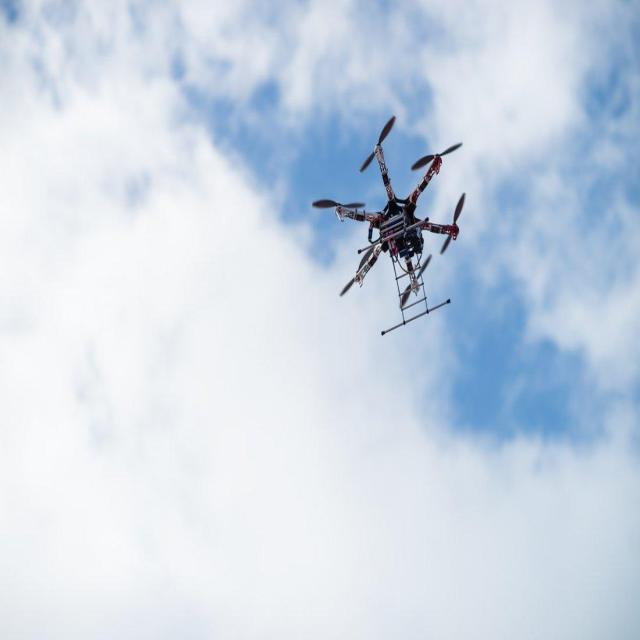drone: (310, 112, 470, 342)
